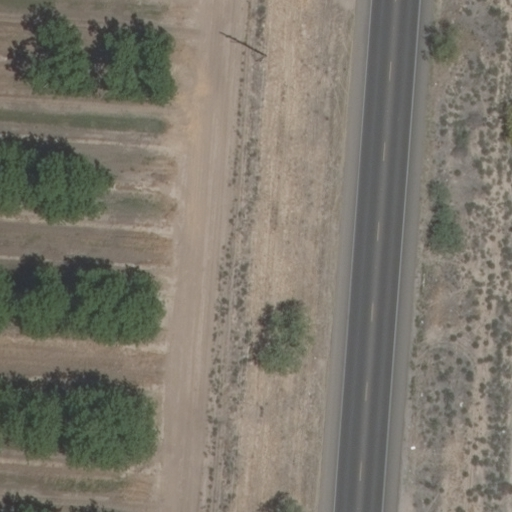DT: (223, 34, 266, 60)
